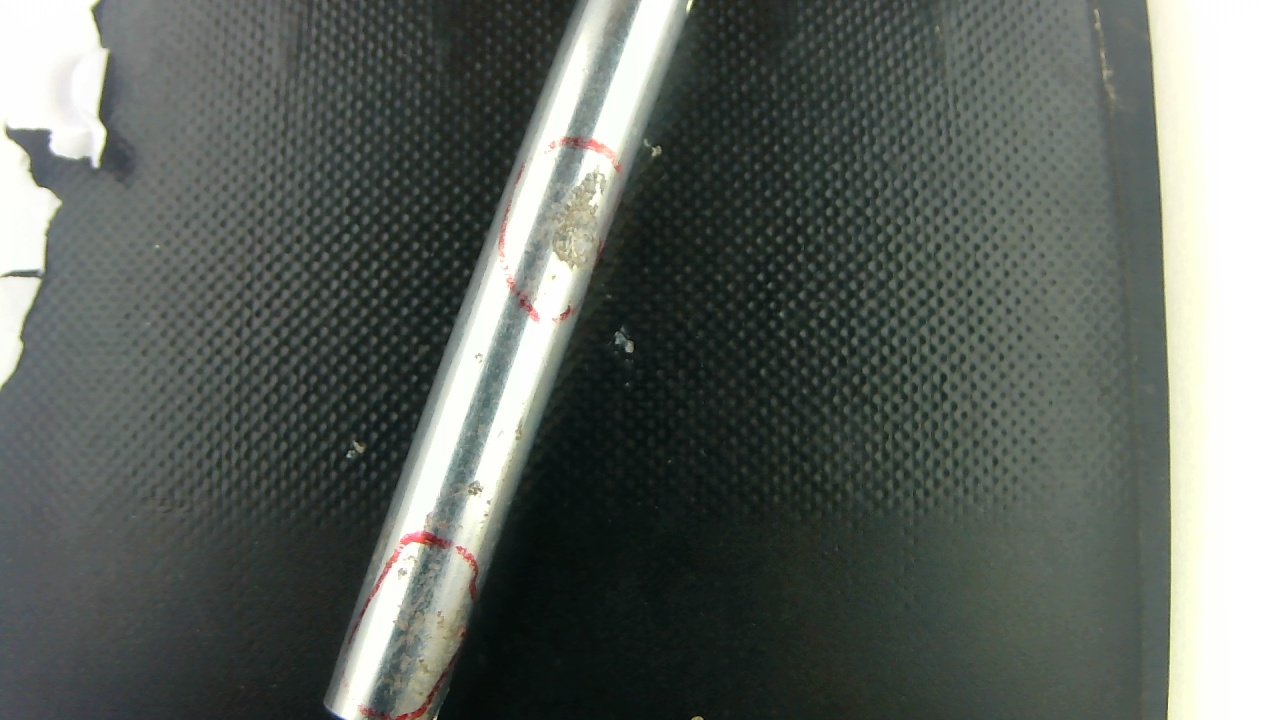whiterust_pin: (364, 551, 475, 719)
